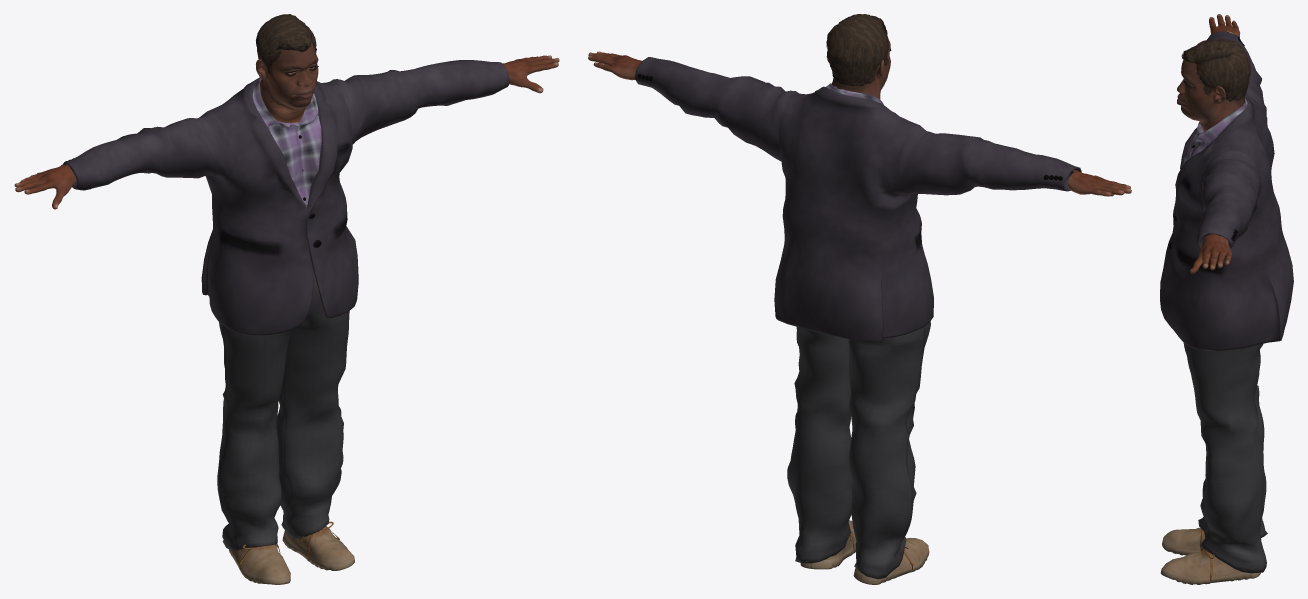
File: BGMale3.obj
3 renders of one model, left to right at view 1: azimuth 30°, elevation 25°; view 2: azimuth 150°, elevation 25°; view 3: azimuth 270°, elevation 25°, orthographic. The views are drawn at different scales.
Visible parts, largest first — view 1: Tops, Bottoms, Body, Shoes, Hair; view 2: Tops, Bottoms, Hair, Body, Shoes; view 3: Tops, Bottoms, Body, Shoes, Hair.
Boxes of the visible parts, box(x1,y1,x2,y2) form: Tops: box(63, 60, 509, 335); Bottoms: box(217, 264, 349, 551); Body: box(14, 42, 559, 209); Shoes: box(229, 521, 354, 584); Hair: box(256, 14, 316, 73); Tops: box(635, 57, 1081, 342); Bottoms: box(787, 321, 930, 579); Hair: box(826, 14, 888, 85); Body: box(588, 35, 1131, 196); Shoes: box(800, 520, 929, 584); Tops: box(1160, 31, 1293, 350); Bottoms: box(1183, 343, 1267, 573); Body: box(1177, 14, 1245, 273); Shoes: box(1160, 527, 1261, 584); Hair: box(1181, 39, 1250, 101).
Size of the model in its own units: 193 by 184 by 42.78.
